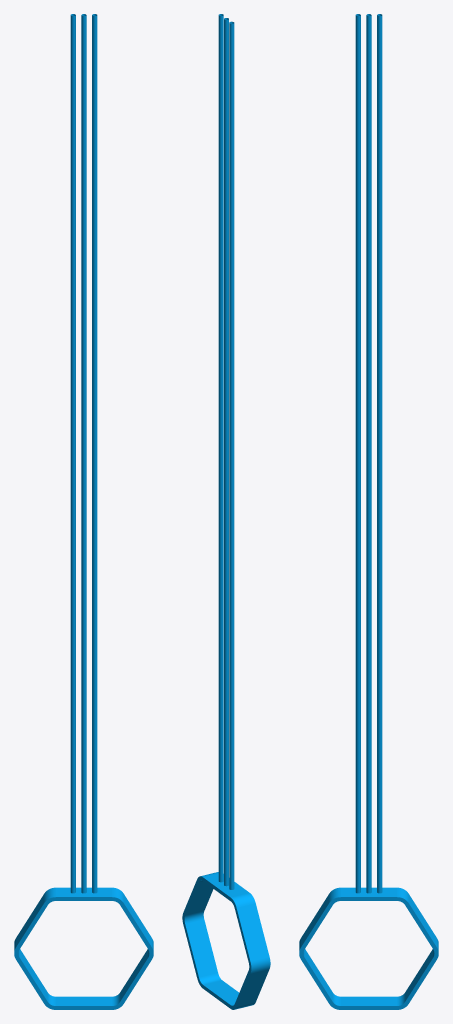
File: cutter4_pencil.fbx
The picture shows the model from 3 angles, left to right: view 1: azimuth 90°, elevation 25°; view 2: azimuth 210°, elevation 25°; view 3: azimuth 270°, elevation 25°; orthographic projection.
Visible parts, largest first — view 1: Cutter4_Pencil; view 2: Cutter4_Pencil; view 3: Cutter4_Pencil.
Boxes of the visible parts, bbox=[...] form: Cutter4_Pencil: bbox=[14, 14, 153, 1009]; Cutter4_Pencil: bbox=[182, 14, 270, 1009]; Cutter4_Pencil: bbox=[299, 14, 438, 1009].
Size of the model in its own units: 16.77 by 816 by 104.
